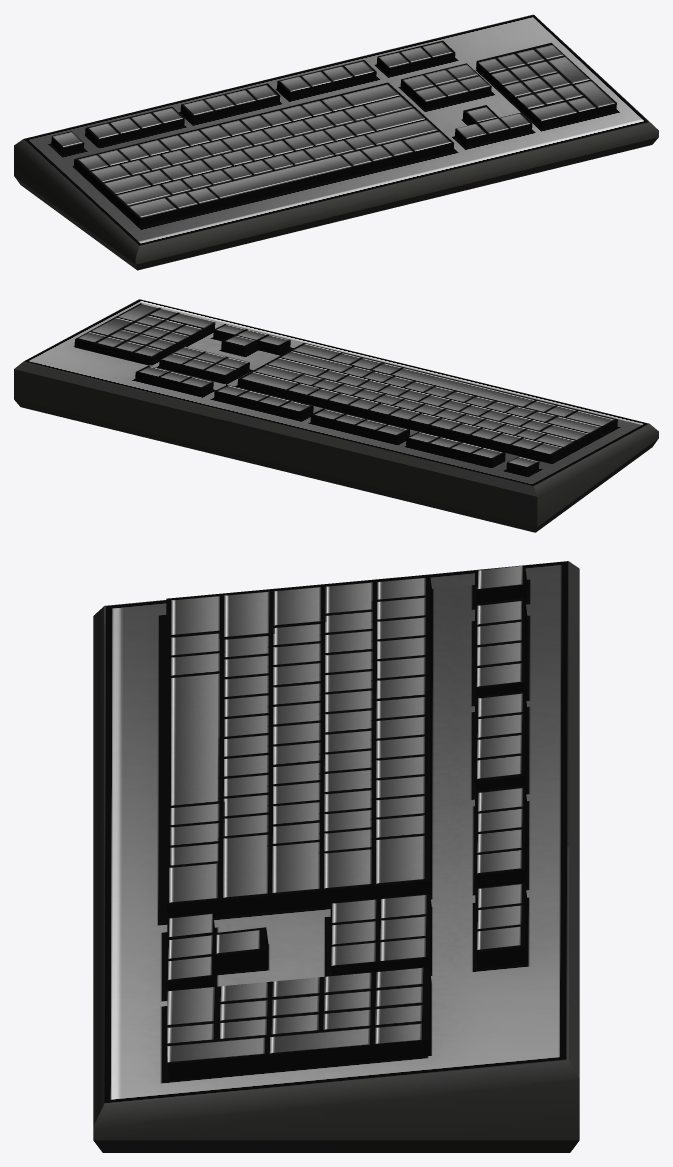
The model's file is keyboard.fbx.
3 renders of one model, top to bottom at view 1: azimuth 30°, elevation 25°; view 2: azimuth 150°, elevation 25°; view 3: azimuth 270°, elevation 25°, orthographic. The views are drawn at different scales.
Visible parts, largest first — view 1: pCube13; view 2: pCube13; view 3: pCube13.
Part boxes in pixels (x1,y1,x2,y2): pCube13: (14,14,658,270); pCube13: (14,299,658,532); pCube13: (93,561,579,1152).
Bounding box in the file's own units: 8.19 × 0.782 × 3.3.
